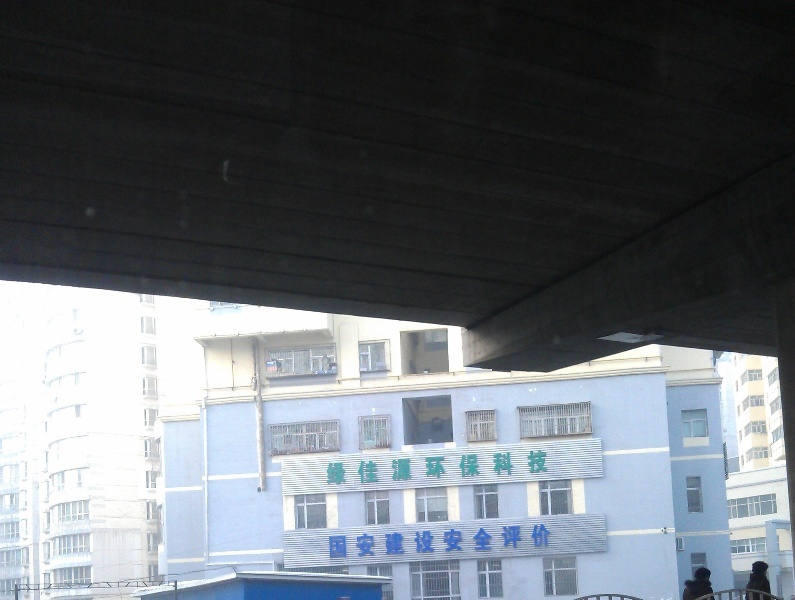text: (337, 449, 352, 487), (353, 449, 368, 487), (369, 449, 384, 487), (385, 449, 400, 487), (401, 449, 416, 487), (417, 449, 432, 487), (433, 449, 448, 487), (449, 449, 464, 487), (465, 449, 480, 487), (481, 449, 496, 487), (497, 449, 512, 487), (513, 449, 528, 487), (529, 449, 544, 487), (337, 523, 352, 560), (353, 523, 368, 560), (369, 523, 384, 560), (385, 523, 400, 560), (401, 523, 416, 560), (417, 523, 432, 560), (433, 523, 448, 560), (449, 523, 464, 560), (465, 523, 480, 560), (481, 523, 496, 560), (497, 523, 512, 560), (513, 523, 528, 560), (529, 523, 544, 560), (325, 449, 336, 487), (328, 523, 336, 560), (545, 523, 553, 560), (545, 449, 549, 487)
